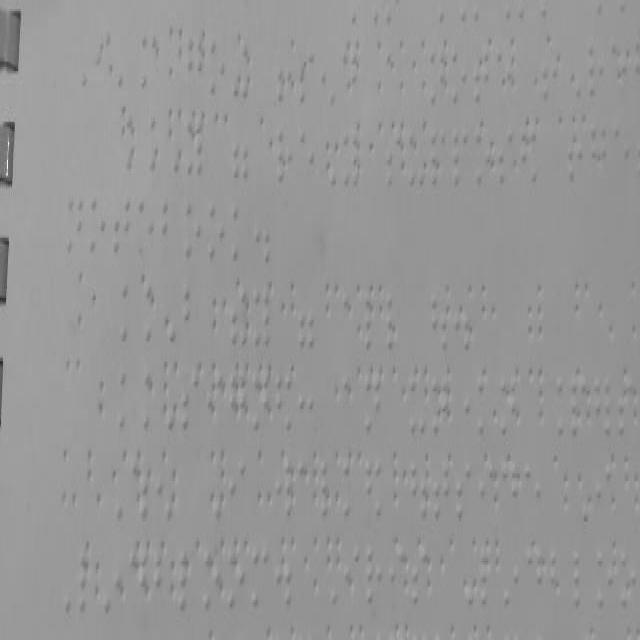braiile: (182, 282, 200, 344), (66, 194, 84, 254), (112, 196, 130, 256), (136, 194, 154, 254), (120, 278, 136, 344), (208, 40, 226, 98), (184, 200, 202, 258), (208, 200, 226, 258), (364, 376, 382, 434), (432, 462, 450, 520), (524, 462, 542, 516), (88, 198, 105, 255), (161, 194, 177, 254), (451, 46, 467, 104), (588, 40, 604, 98), (614, 122, 630, 180), (385, 131, 401, 189), (298, 126, 314, 184), (231, 202, 247, 260), (118, 371, 134, 429), (229, 460, 245, 518), (343, 460, 359, 518), (254, 289, 270, 347), (452, 130, 468, 186), (276, 461, 292, 517), (456, 463, 472, 519), (412, 548, 428, 604), (366, 548, 382, 604), (342, 131, 358, 185), (498, 126, 512, 184), (502, 460, 516, 518), (478, 378, 492, 436), (574, 549, 588, 607), (528, 551, 542, 609), (476, 128, 490, 184), (480, 463, 494, 519), (598, 550, 612, 606), (596, 464, 610, 518), (390, 551, 404, 605), (410, 378, 424, 431)
